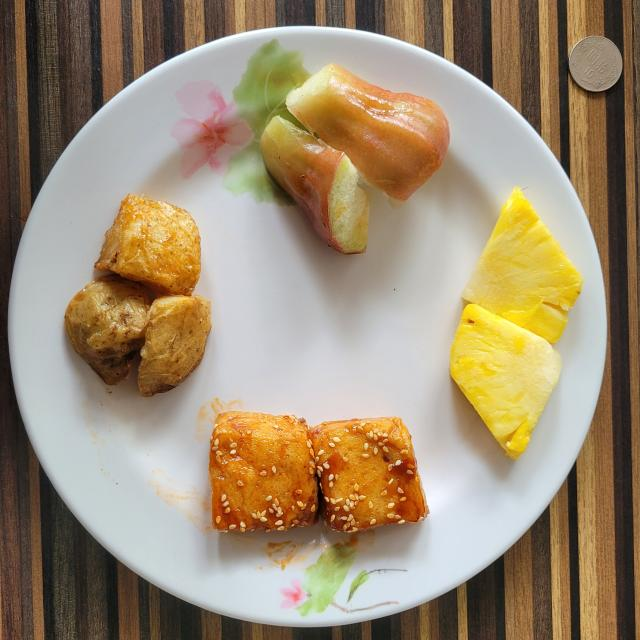coin: (569, 36, 622, 91)
creamy tofu: (209, 411, 429, 532)
fried potato: (65, 194, 211, 396)
pineapple: (450, 188, 582, 459)
